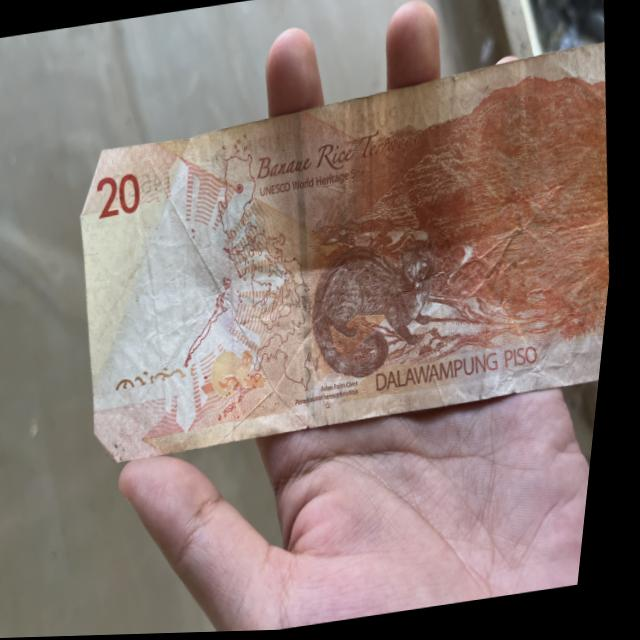20_civet: (301, 230, 461, 389)
20_civet_watermark: (209, 338, 280, 400)
